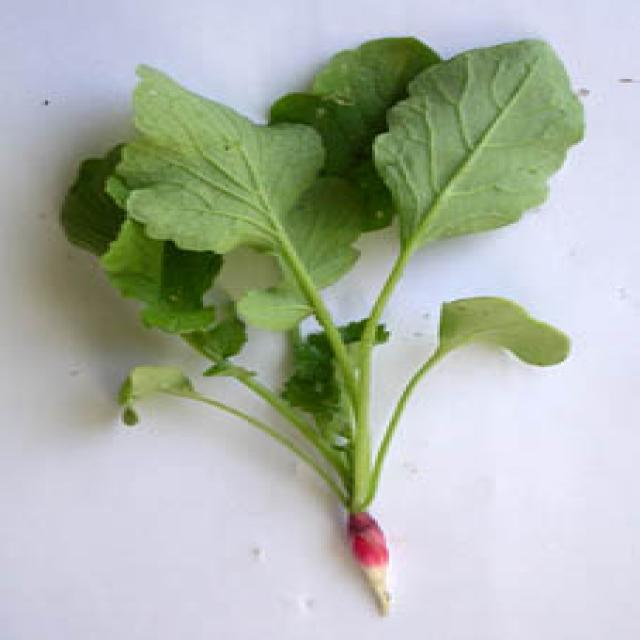organic: (94, 66, 326, 253), (375, 40, 572, 244), (438, 296, 571, 376)
